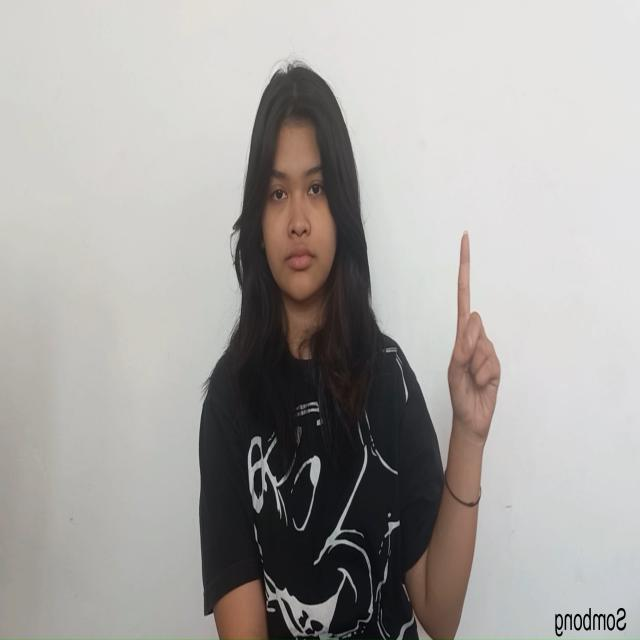Sombong -BISINDO-: (446, 228, 502, 455)
